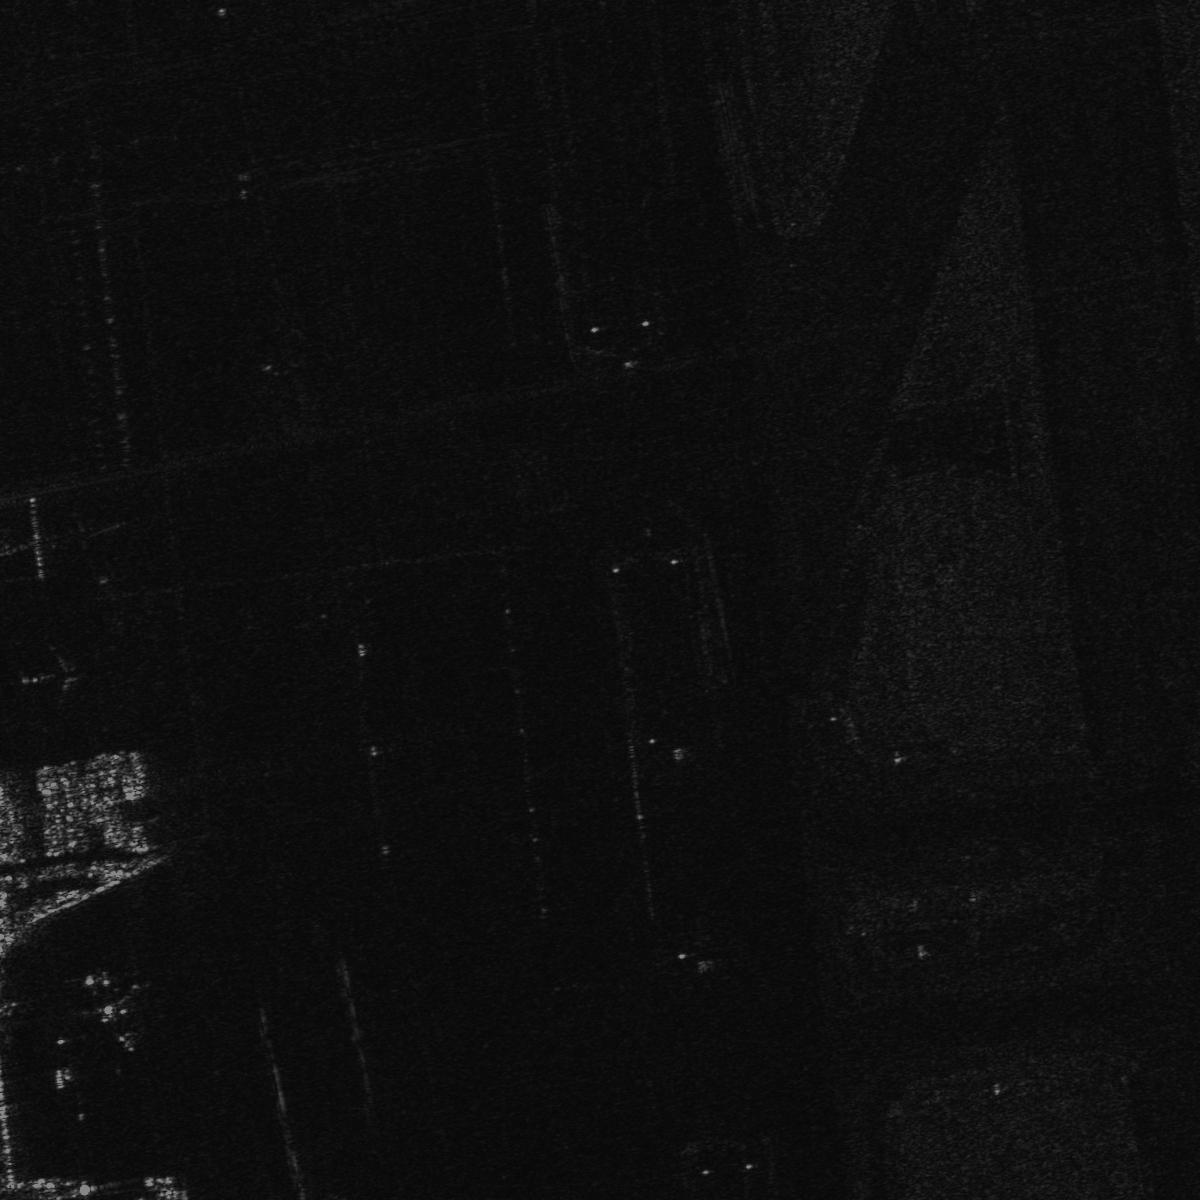Boeing787: (57, 959, 149, 1054)
other: (15, 641, 97, 705)
